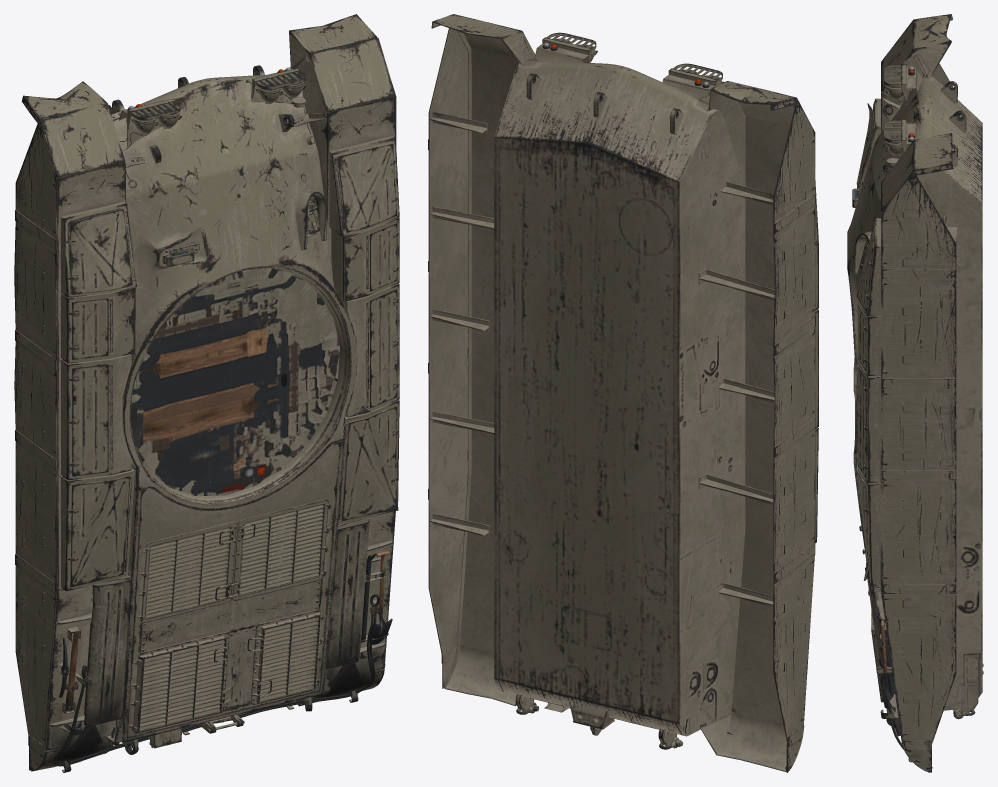
Rendered from Hull.glb.
3 renders of one model, left to right at view 1: azimuth 30°, elevation 25°; view 2: azimuth 150°, elevation 25°; view 3: azimuth 270°, elevation 25°, orthographic. The views are drawn at different scales.
Parts seen in each view (by area): view 1: set_0_group_0; view 2: set_0_group_0; view 3: set_0_group_0.
Boxes of the visible parts, x1=… form: set_0_group_0: x1=14, y1=14, x2=399, y2=772; set_0_group_0: x1=428, y1=14, x2=818, y2=772; set_0_group_0: x1=847, y1=14, x2=983, y2=772.
Bounding box in the file's own units: 3.42 × 6.33 × 1.29.
1 material, 1 textured.
